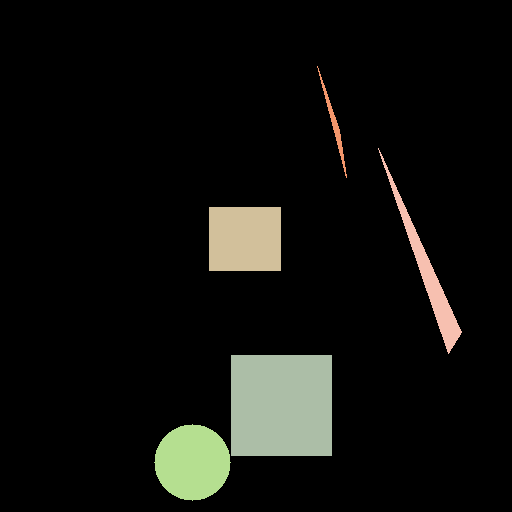circle: (154, 424, 230, 500)
rectangle: (209, 207, 280, 270)
square: (231, 355, 331, 455)
triangle: (378, 148, 461, 353), (317, 66, 346, 177)
